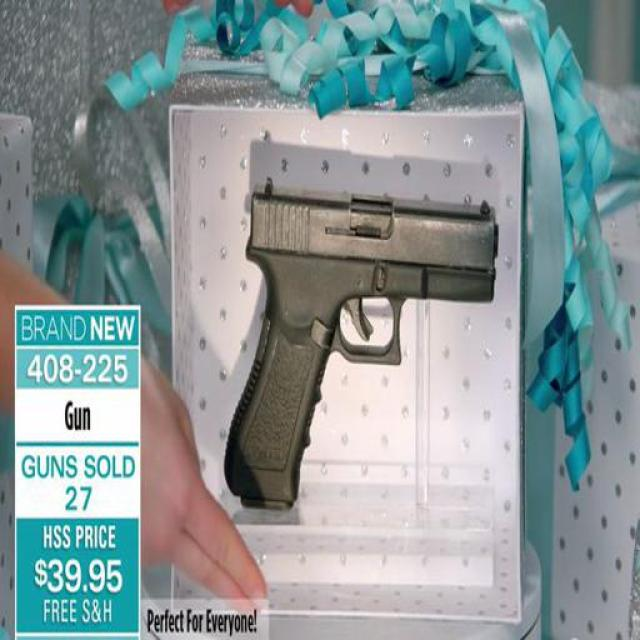pistol: (227, 180, 496, 505)
